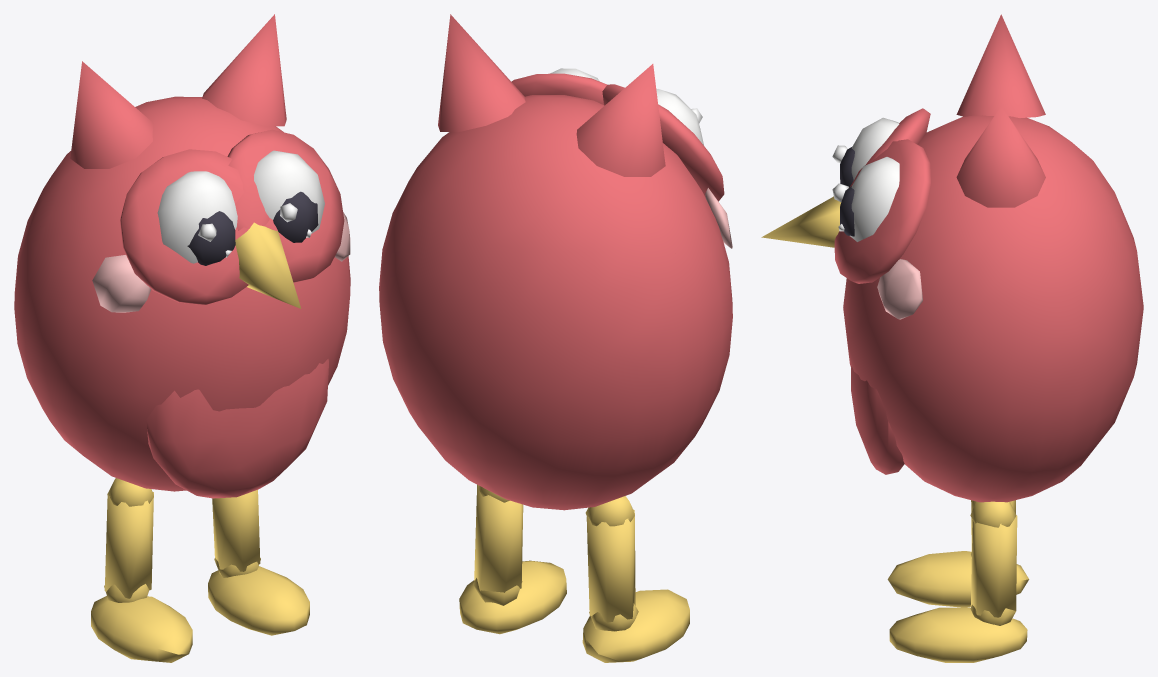
Rendered from Owl.fbx.
The picture shows the model from 3 angles, left to right: view 1: azimuth 30°, elevation 25°; view 2: azimuth 150°, elevation 25°; view 3: azimuth 270°, elevation 25°; orthographic projection. The views are drawn at different scales.
Parts seen in each view (by area): view 1: EX_Owl; view 2: EX_Owl; view 3: EX_Owl.
Boxes of the visible parts, bbox=[...] form: EX_Owl: bbox=[14, 14, 350, 662]; EX_Owl: bbox=[379, 14, 732, 662]; EX_Owl: bbox=[761, 14, 1143, 662].
Size of the model in its own units: 126 by 235 by 143.
